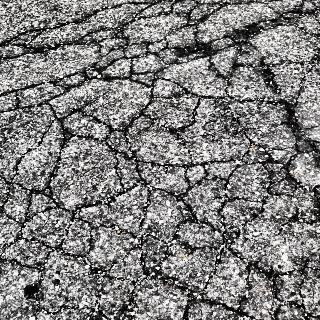alligator-crack: (2, 2, 318, 318)
